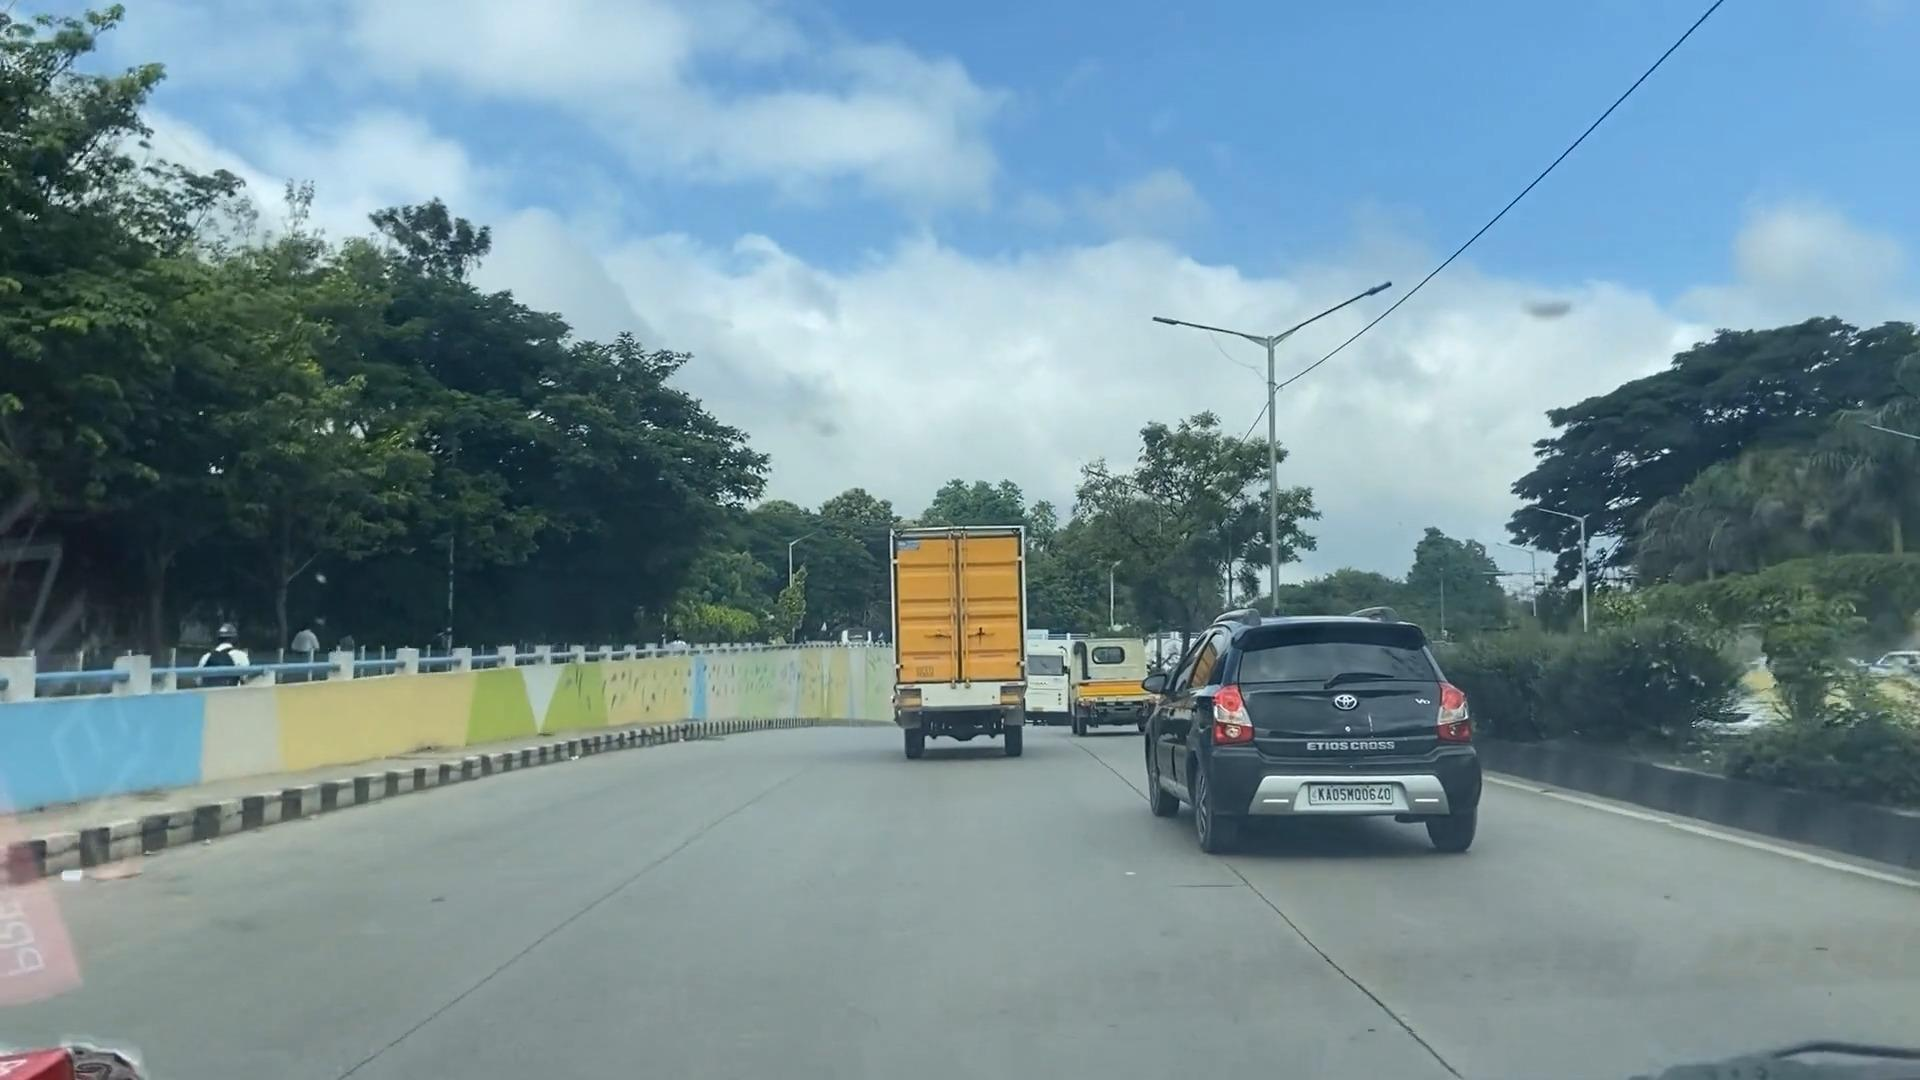HMV: (886, 530, 1025, 760)
LMV: (1147, 626, 1472, 864)
